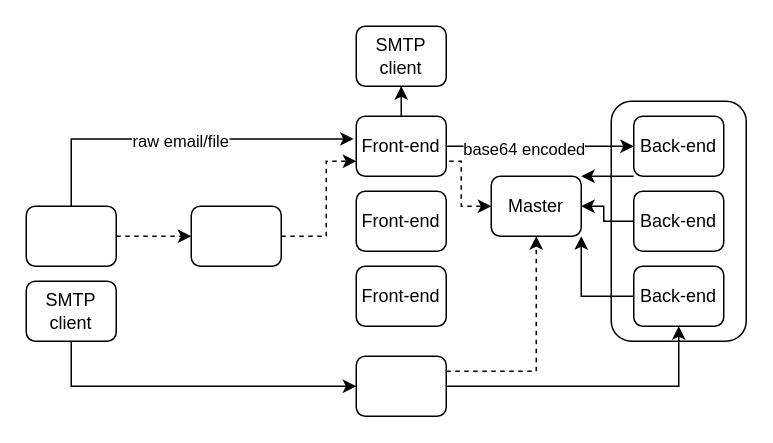
Some shapes in this 773 by 443 pixel diagram are drawn without their labels. Here are the shapes that lost their labels. From the top down, the box of each, then its label:
(25, 205, 116, 266): User
(190, 205, 281, 266): Load-balancer
(610, 100, 746, 341): Replica group 0
(355, 355, 446, 416): SMTP server
